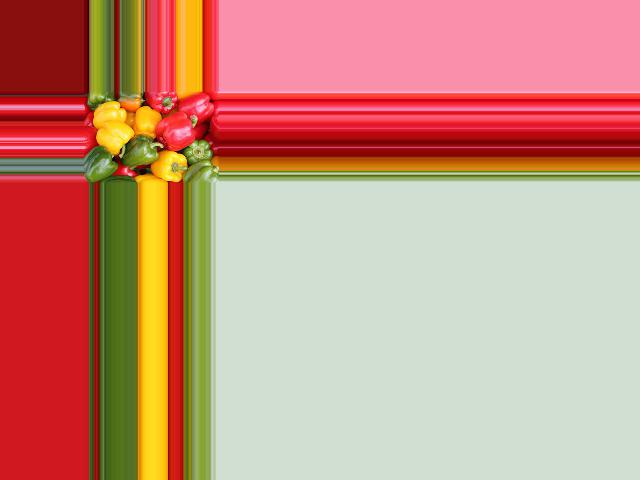bell_pepper: (88, 91, 118, 107)
